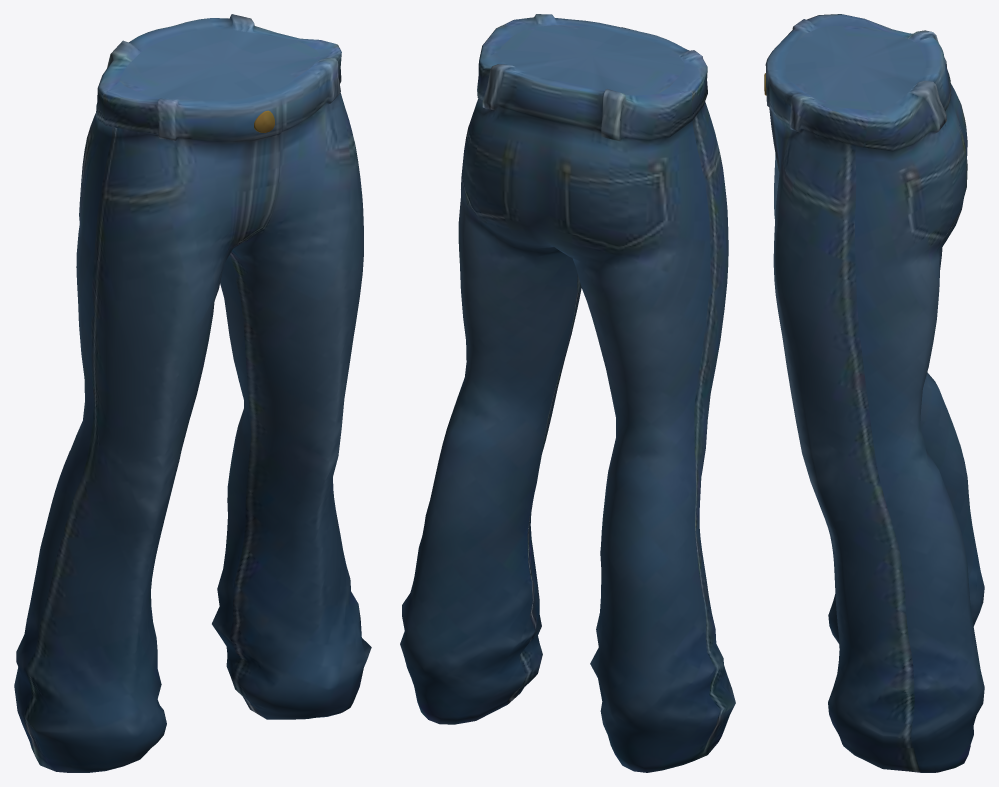
The model's file is leg5.glb.
The picture shows the model from 3 angles, left to right: view 1: azimuth 30°, elevation 25°; view 2: azimuth 150°, elevation 25°; view 3: azimuth 270°, elevation 25°; orthographic projection. The views are drawn at different scales.
Visible parts, largest first — view 1: Wolf3D_Outfit_Bottom; view 2: Wolf3D_Outfit_Bottom; view 3: Wolf3D_Outfit_Bottom.
Boxes of the visible parts, bbox=[...] form: Wolf3D_Outfit_Bottom: bbox=[14, 14, 371, 772]; Wolf3D_Outfit_Bottom: bbox=[400, 14, 735, 772]; Wolf3D_Outfit_Bottom: bbox=[764, 14, 984, 772].
Size of the model in its own units: 0.4823 by 0.9602 by 0.2931.
Materials: 1 (1 with a texture image).
